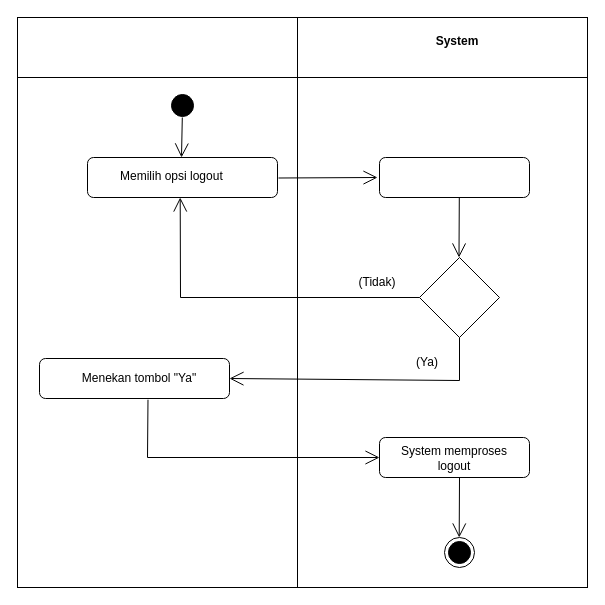
Some shapes in this 605 by 605 pixel diagram are drawn without their labels. Here are the shapes that lost their labels. From the top down, the centre of each, then its label:
(157,47): Agen dengan Kantor Pusat
(454,177): Konfirmasi logout
